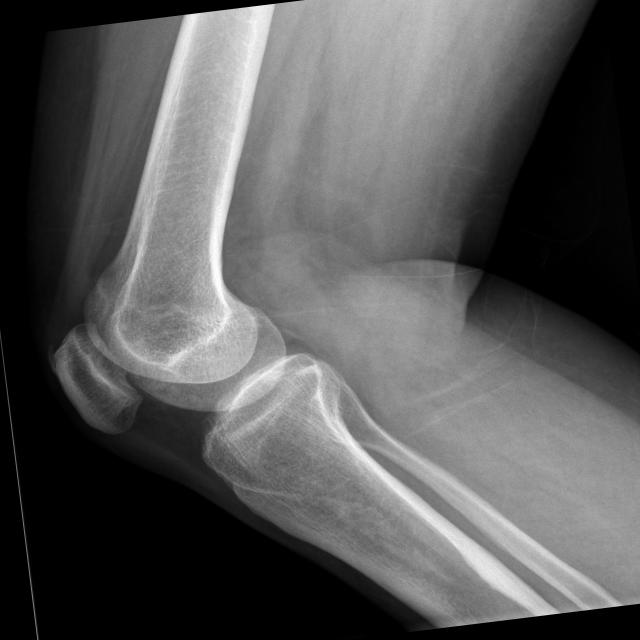Knee: (37, 268, 356, 513)
